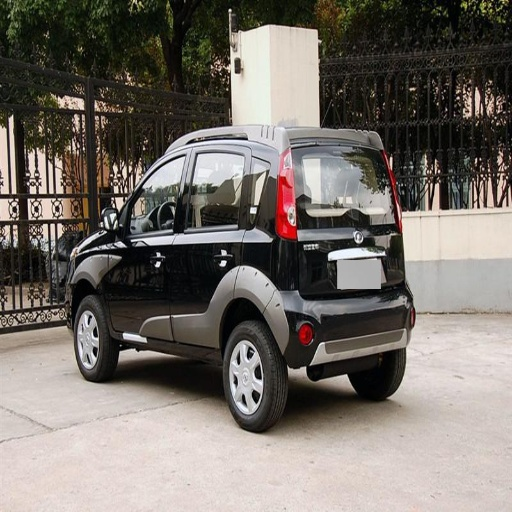back_bumper: (281, 282, 416, 362)
back_glass: (304, 149, 384, 204)
back_left_door: (169, 143, 253, 343)
trunk: (309, 210, 390, 310)
